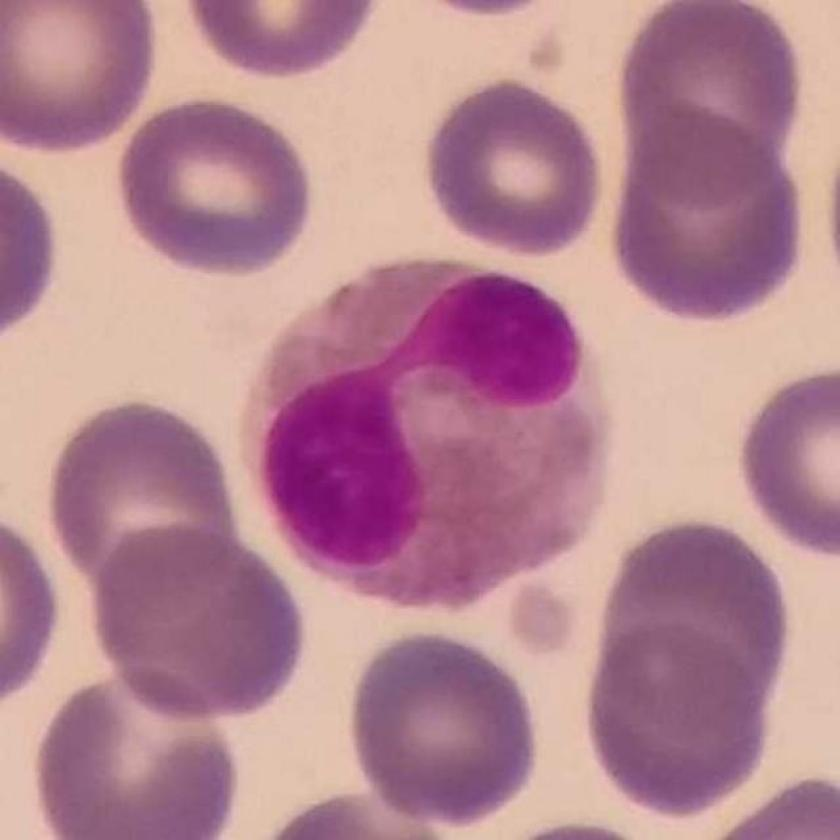eosinophil: (239, 253, 623, 609)
